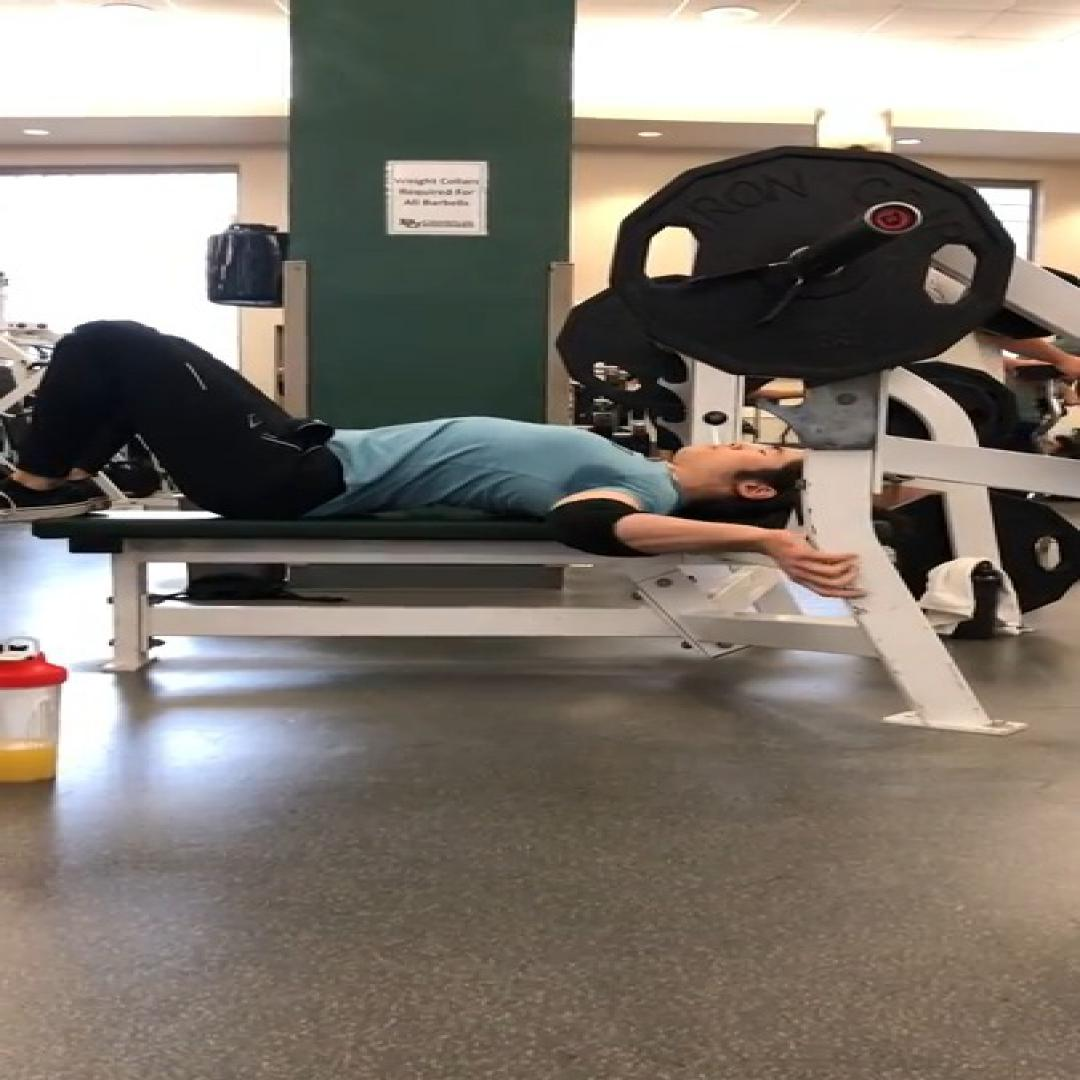Bar: (861, 200, 925, 236)
Barbell: (610, 145, 1016, 380)
